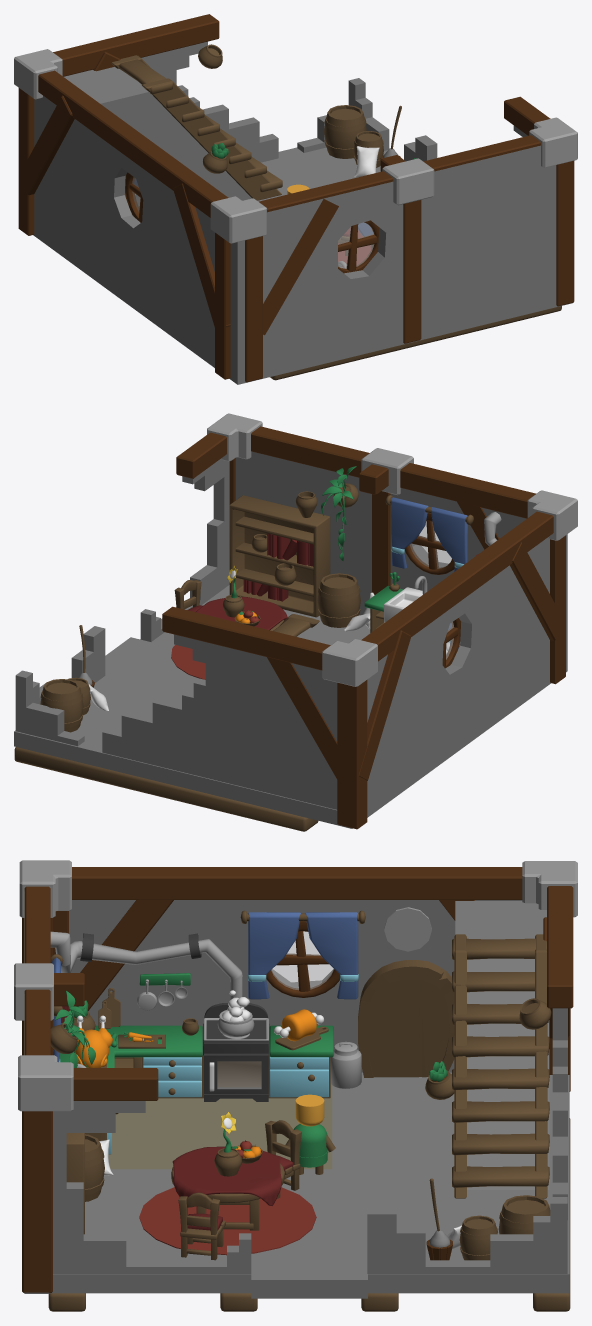
Rendered from InHouse.fbx.
3 renders of one model, top to bottom at view 1: azimuth 30°, elevation 25°; view 2: azimuth 150°, elevation 25°; view 3: azimuth 270°, elevation 25°, orthographic. The views are drawn at different scales.
Visible parts, largest first — view 1: Wall, Cube.038, Cube.085, Cube.092, Cube.083, Wall.003, Cube.037, Groiund, Cube.090, Cube.081, Cube.088, Cube.108 (+19 smaller); view 2: Wall, Wall.003, Groiund, Cube.083, Cube.085, Cube.045, Cube.080, Cube.092, Cube.096, Wall.001, Wall.002, Cube.098 (+22 smaller); view 3: Groiund, Wall, Cube.085, Cube.036, puerta.002, Cube.038, Wall.001, Wall.002, Cube.100, Cylinder.033, Cube.090, Cube.037 (+36 smaller).
Part boxes in pixels (x1,y1,x2,y2): Wall: (33,96,572,384); Cube.038: (64,67,251,215); Cube.085: (38,70,228,217); Cube.092: (53,14,219,76); Cube.083: (259,135,540,212); Wall.003: (63,41,278,162); Cube.037: (111,55,281,200); Groiund: (257,147,380,267); Cube.090: (556,160,574,306); Cube.081: (403,200,421,343); Cube.088: (245,236,262,382); Cube.108: (263,199,338,335); Wall: (235,451,567,828); Wall.003: (102,634,337,809); Groiund: (14,585,370,826); Cube.083: (251,426,535,518); Cube.085: (361,511,553,661); Cube.045: (229,495,330,617); Cube.080: (14,747,318,831); Cube.092: (162,606,330,670); Cube.096: (337,680,367,829); Wall.001: (140,458,229,641); Wall.002: (15,626,105,746); Cube.098: (391,497,467,571); Groiund: (50,1072,569,1298); Wall: (24,891,522,1293); Cube.085: (72,867,522,899); Cube.036: (452,938,549,1187); puerta.002: (358,960,454,1077); Cube.038: (455,901,549,1189); Wall.001: (53,1101,251,1273); Wall.002: (367,1197,567,1273); Cube.100: (248,912,358,999); Cylinder.033: (139,1187,316,1255); Cube.090: (22,1111,52,1292); Cube.037: (454,934,547,1198).
Bounding box in the file's own units: 6.53 × 3.31 × 7.07.
